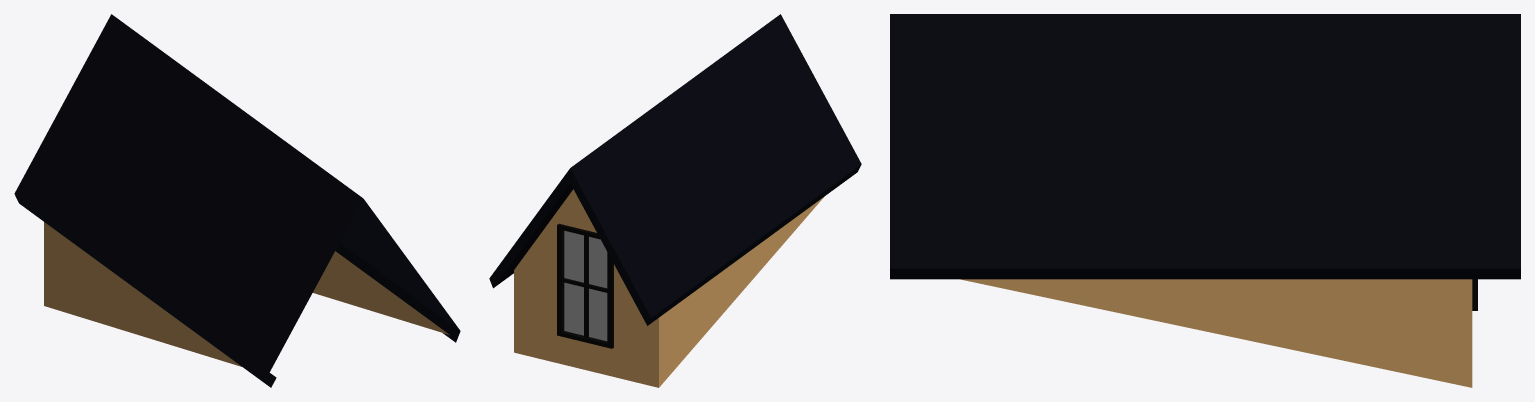
The model's file is Prop_RoofWindow.FBX.
The picture shows the model from 3 angles, left to right: view 1: azimuth 30°, elevation 25°; view 2: azimuth 150°, elevation 25°; view 3: azimuth 270°, elevation 25°; orthographic projection. The views are drawn at different scales.
Visible parts, largest first — view 1: Prop_RoofWindow; view 2: Prop_RoofWindow; view 3: Prop_RoofWindow.
Boxes of the visible parts, bbox=[...] form: Prop_RoofWindow: bbox=[14, 14, 460, 387]; Prop_RoofWindow: bbox=[489, 14, 861, 387]; Prop_RoofWindow: bbox=[890, 14, 1520, 387].
Size of the model in its own units: 53.9 by 68.07 by 121.
